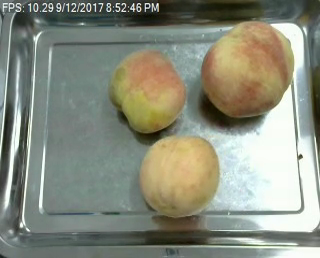Peach: (202, 19, 295, 118), (139, 134, 220, 216), (108, 49, 187, 133)
